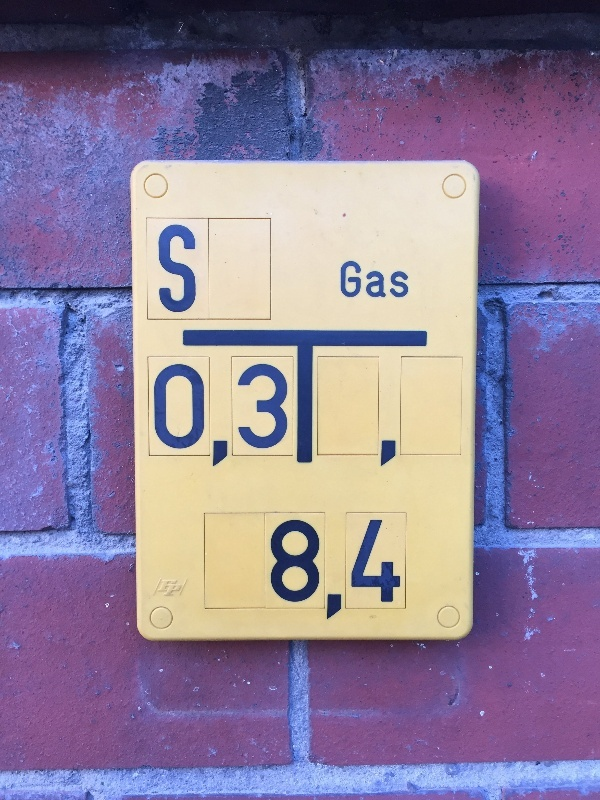text: (273, 355, 289, 475), (161, 355, 176, 475), (177, 355, 192, 475), (193, 355, 208, 475), (209, 355, 224, 475), (225, 355, 240, 475), (241, 355, 256, 475), (257, 355, 272, 475), (273, 517, 288, 622), (289, 517, 304, 622), (305, 517, 320, 622), (321, 517, 336, 622), (337, 517, 352, 622), (353, 517, 368, 622), (369, 517, 384, 622), (385, 517, 400, 622), (161, 224, 176, 316), (177, 224, 192, 316), (153, 355, 160, 475), (193, 224, 202, 316), (353, 261, 368, 303), (369, 261, 384, 303), (385, 261, 400, 303), (340, 261, 352, 303), (385, 436, 399, 472), (401, 517, 405, 622), (401, 261, 410, 303), (378, 436, 384, 472), (158, 224, 160, 316), (271, 517, 272, 622)
